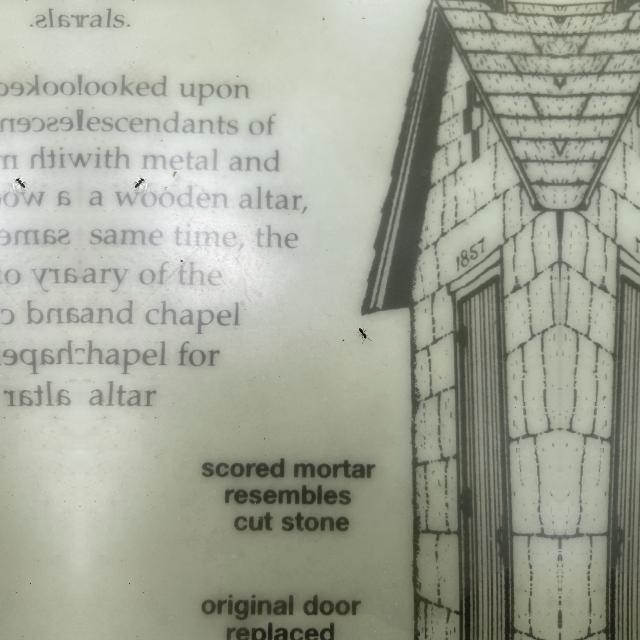Tapinoma: (128, 174, 148, 188), (12, 174, 32, 188), (358, 324, 368, 340)
